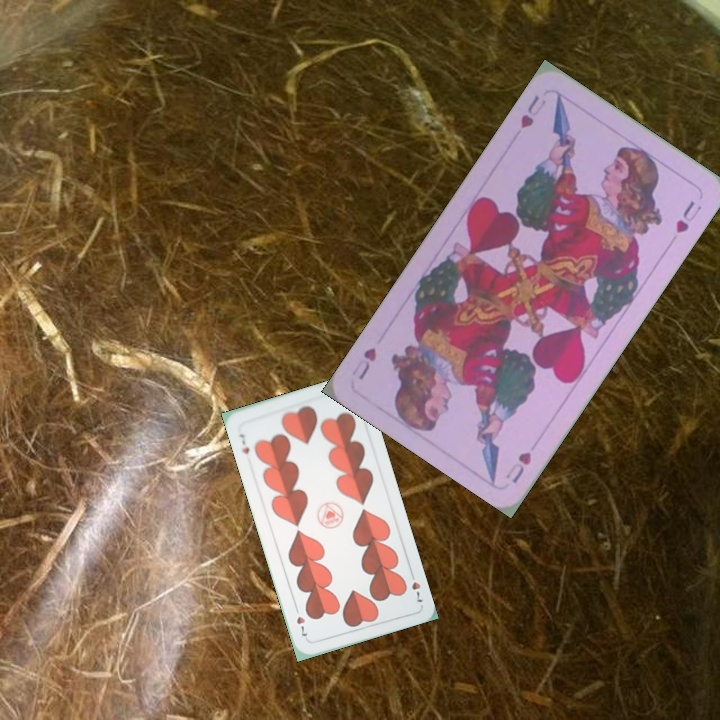H7: (406, 567, 425, 605), (235, 430, 252, 456)
HU: (502, 447, 535, 487), (516, 91, 542, 131)
